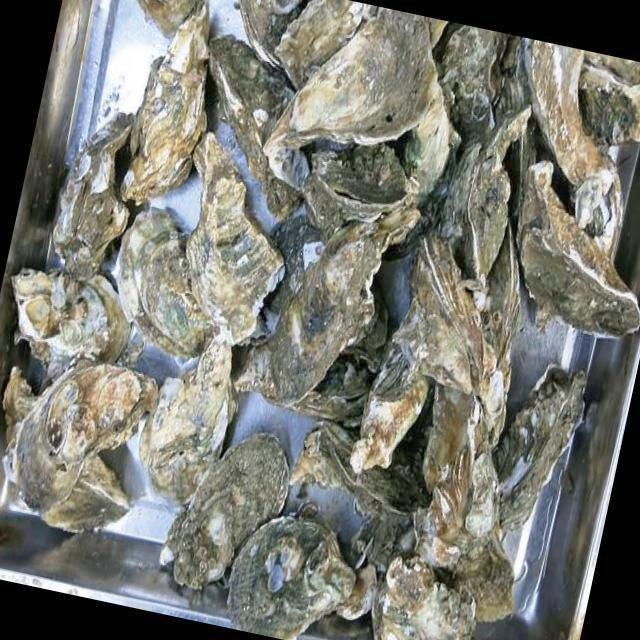Oyster-Closed: (515, 161, 640, 339), (255, 229, 368, 411), (147, 436, 293, 572), (214, 514, 366, 640), (0, 368, 152, 492), (182, 145, 274, 347), (291, 13, 430, 140), (496, 365, 594, 537), (130, 339, 250, 477), (212, 35, 308, 199), (0, 265, 160, 362), (337, 322, 439, 471), (128, 15, 208, 199), (425, 364, 503, 540), (112, 210, 212, 346), (523, 40, 614, 189), (47, 124, 137, 268), (403, 238, 501, 366), (242, 206, 332, 326), (324, 429, 428, 526), (274, 2, 382, 90), (380, 556, 484, 640), (434, 23, 508, 135), (454, 149, 512, 279), (237, 0, 308, 95), (557, 158, 624, 256), (414, 60, 460, 201), (466, 532, 530, 624), (578, 64, 640, 149), (494, 118, 554, 174), (131, 0, 214, 36)
Oyster-Open: (317, 143, 407, 223), (264, 365, 384, 413)
